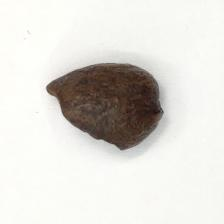NG: (41, 83, 129, 152)
